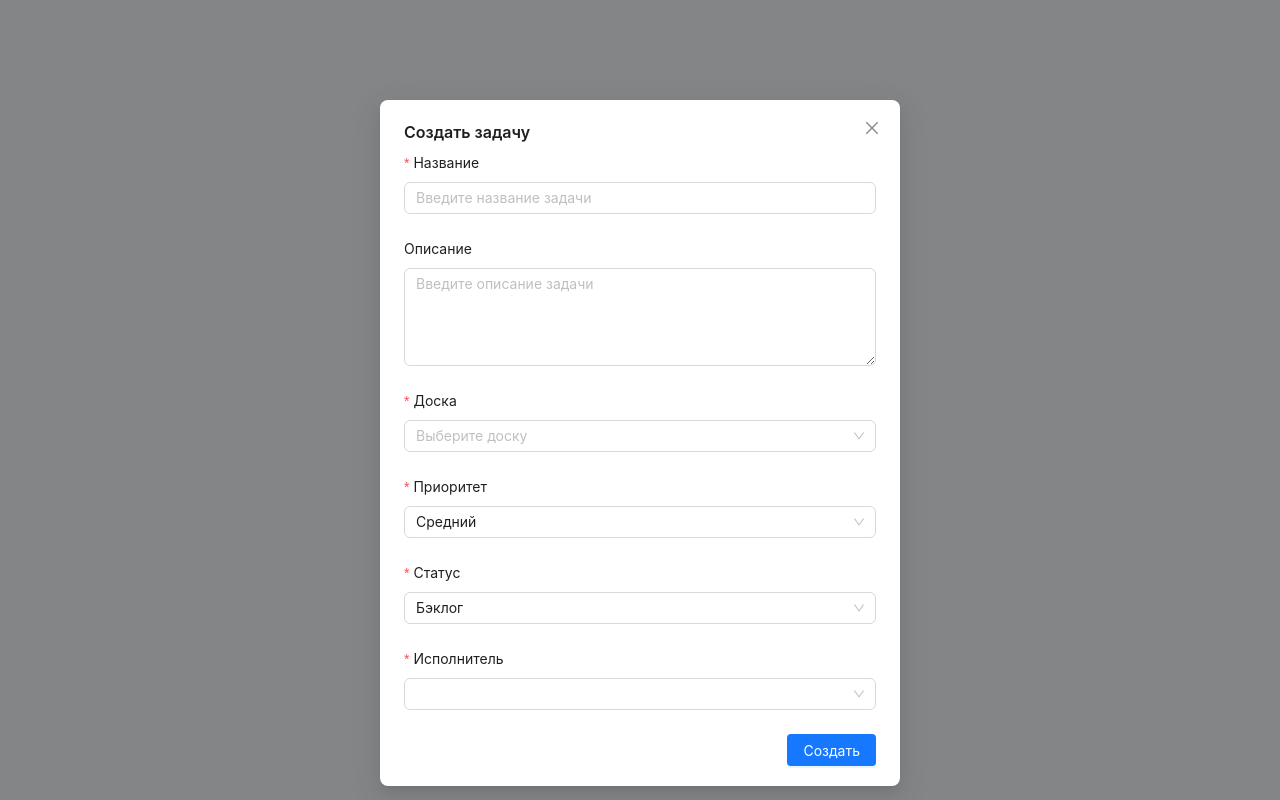
TaskModal › должен валидировать поля формы
What coordinates should you click on to do the following:
click the button "Создать"
I would click on:
 (832, 750)
Its box is [788,734,876,766].
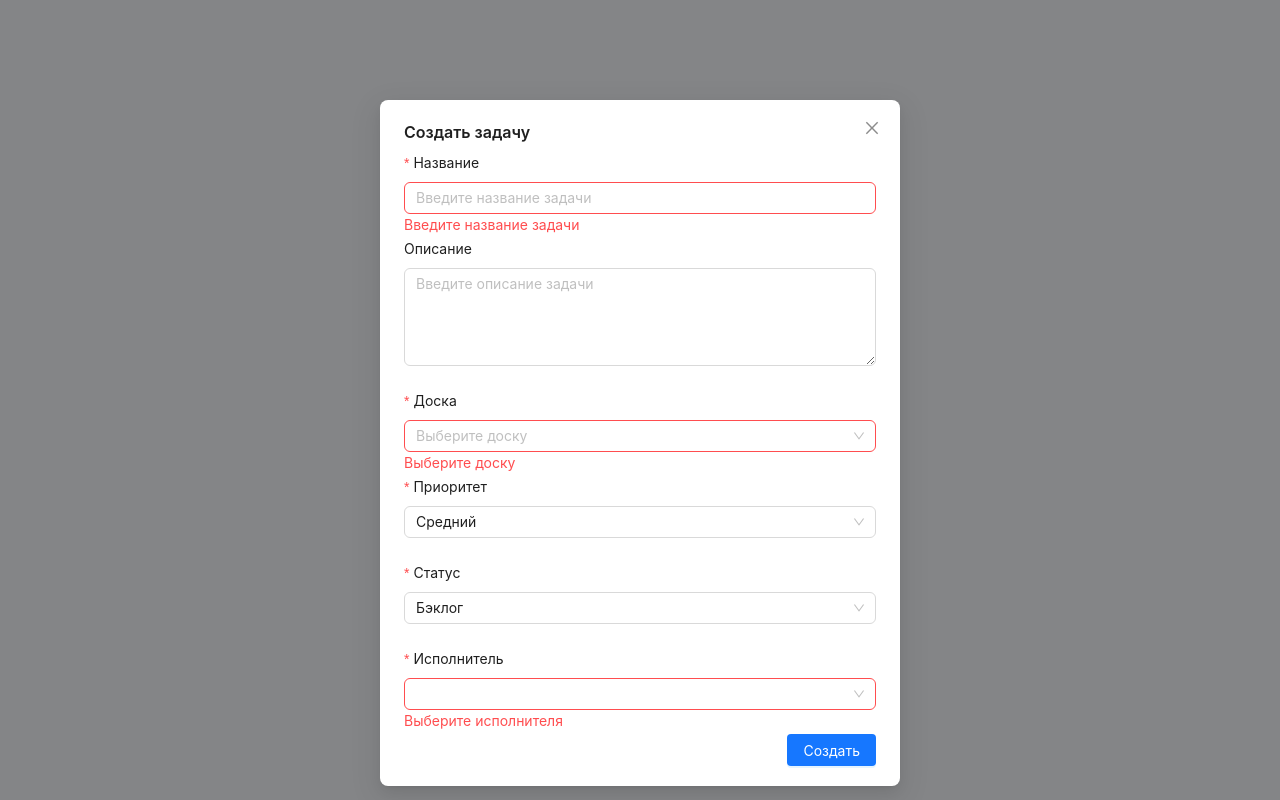
expect the text "Введите название задачи" is shown: met, box [404,216,580,233]
